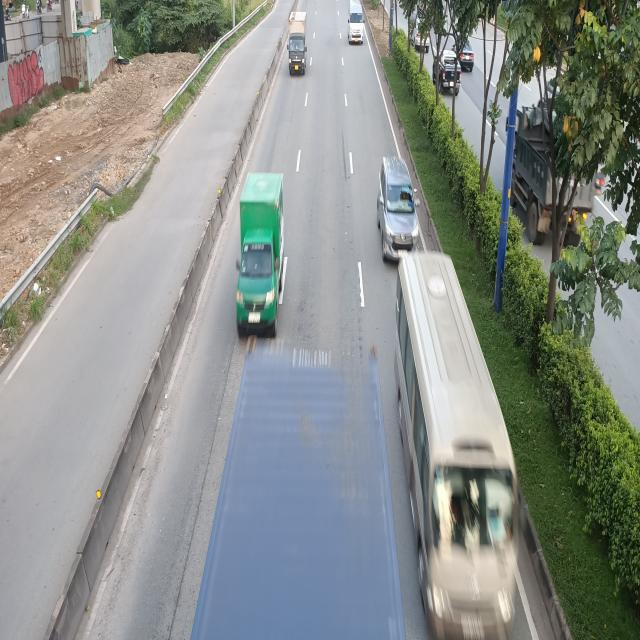car: (236, 171, 287, 335), (376, 157, 417, 262)
truck: (393, 250, 531, 639), (286, 11, 306, 76)
van: (348, 4, 364, 44)
